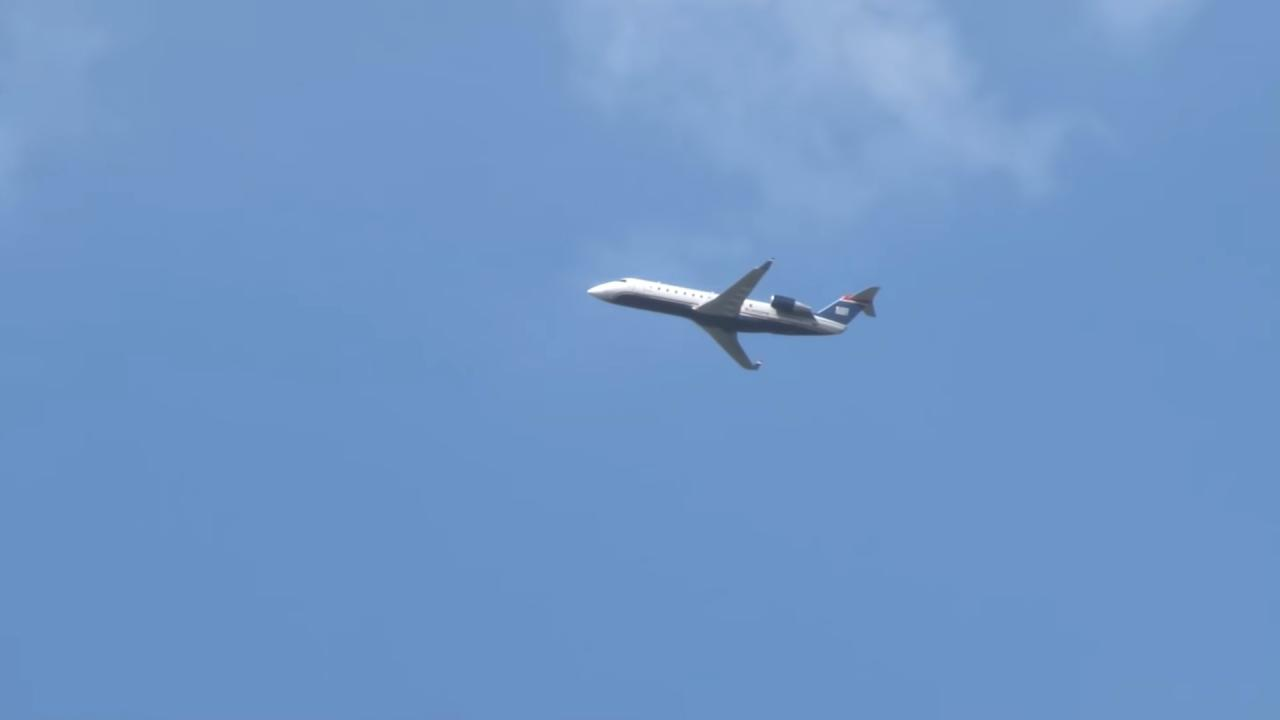Airplane: (572, 252, 899, 384)
